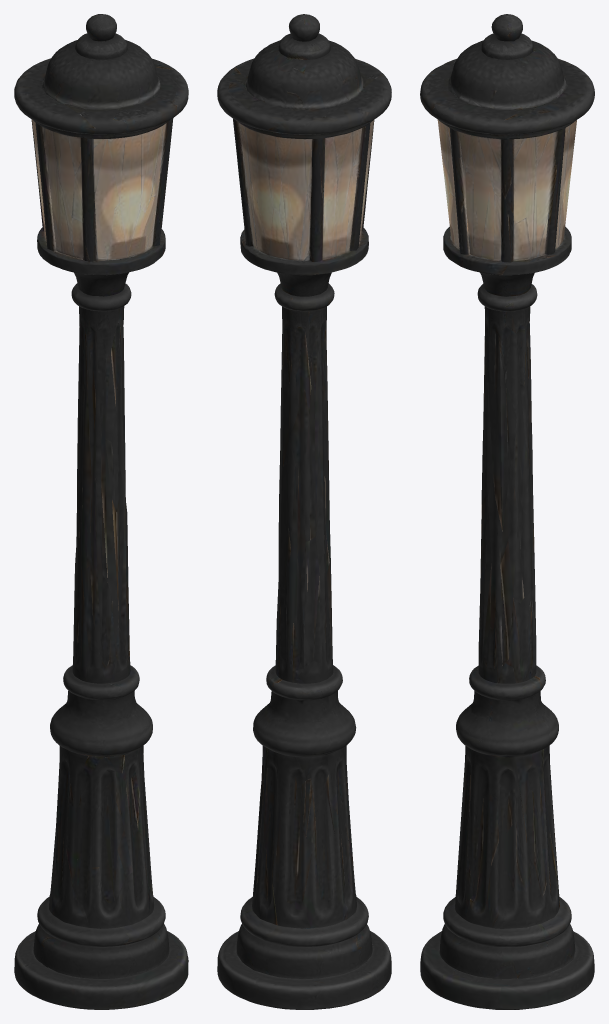
The model's file is lamp.glb.
The picture shows the model from 3 angles, left to right: view 1: azimuth 30°, elevation 25°; view 2: azimuth 150°, elevation 25°; view 3: azimuth 270°, elevation 25°; orthographic projection.
Bounding box in the file's own units: 0.3142 × 1.9 × 0.3147.
1 material, 1 textured.
